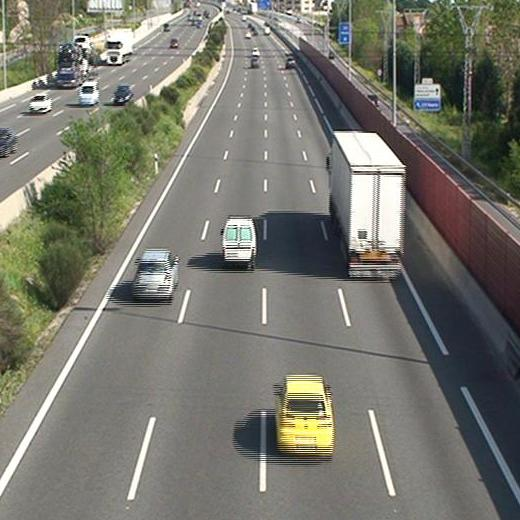car: (275, 377, 335, 455), (133, 250, 177, 299), (285, 56, 297, 69), (249, 56, 259, 69)
truck: (329, 131, 408, 281)
van: (222, 217, 256, 264)
